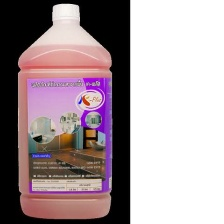cleaning_solution: (14, 2, 114, 221)
